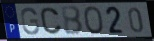0: (127, 6, 145, 33)
2: (106, 5, 127, 35)
B: (60, 5, 85, 36)
C: (39, 7, 63, 36)
G: (20, 7, 41, 36)
O: (82, 5, 105, 36)
